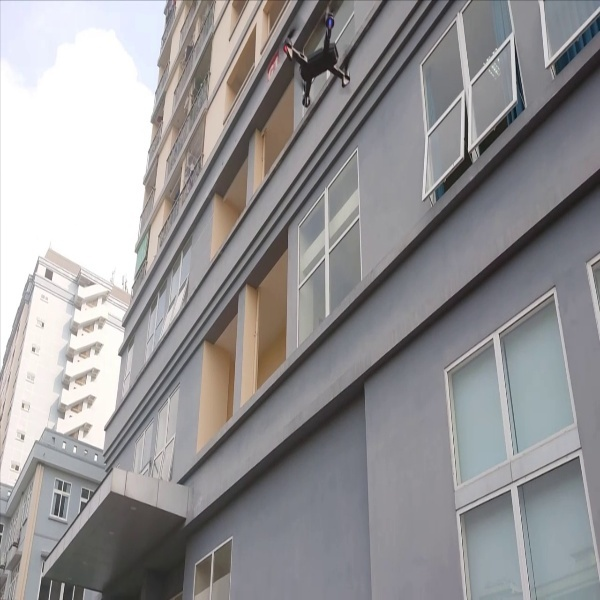drone: (273, 4, 363, 116)
